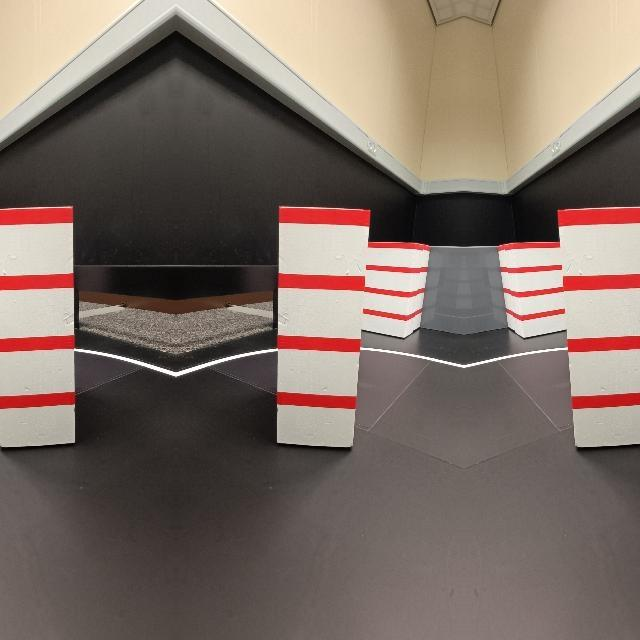obstacle: (277, 207, 368, 448), (558, 207, 640, 448), (0, 207, 72, 448)
